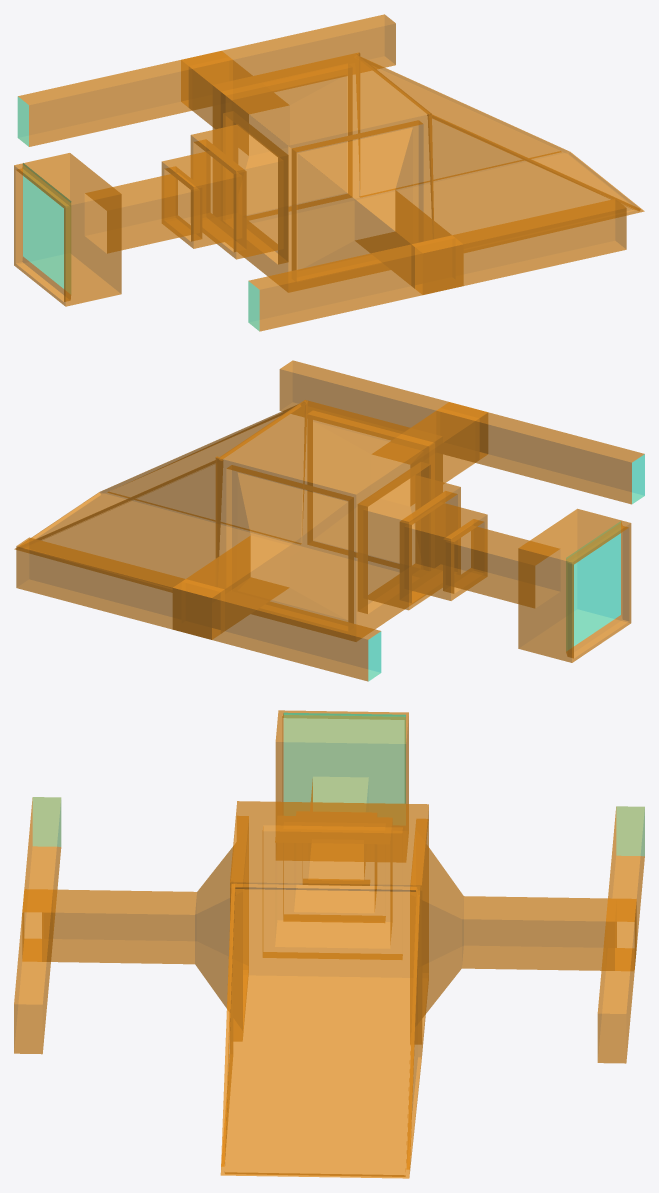
Rendered from player.fbx.
3 renders of one model, top to bottom at view 1: azimuth 30°, elevation 25°; view 2: azimuth 150°, elevation 25°; view 3: azimuth 270°, elevation 25°, orthographic. The views are drawn at different scales.
Visible parts, largest first — view 1: spacehip_2; view 2: spacehip_2; view 3: spacehip_2.
Part boxes in pixels (<box>): spacehip_2: <box>14,14,644,331</box>; spacehip_2: <box>14,360,644,681</box>; spacehip_2: <box>14,710,644,1178</box>.
Bounding box in the file's own units: 797 × 200 × 657.
